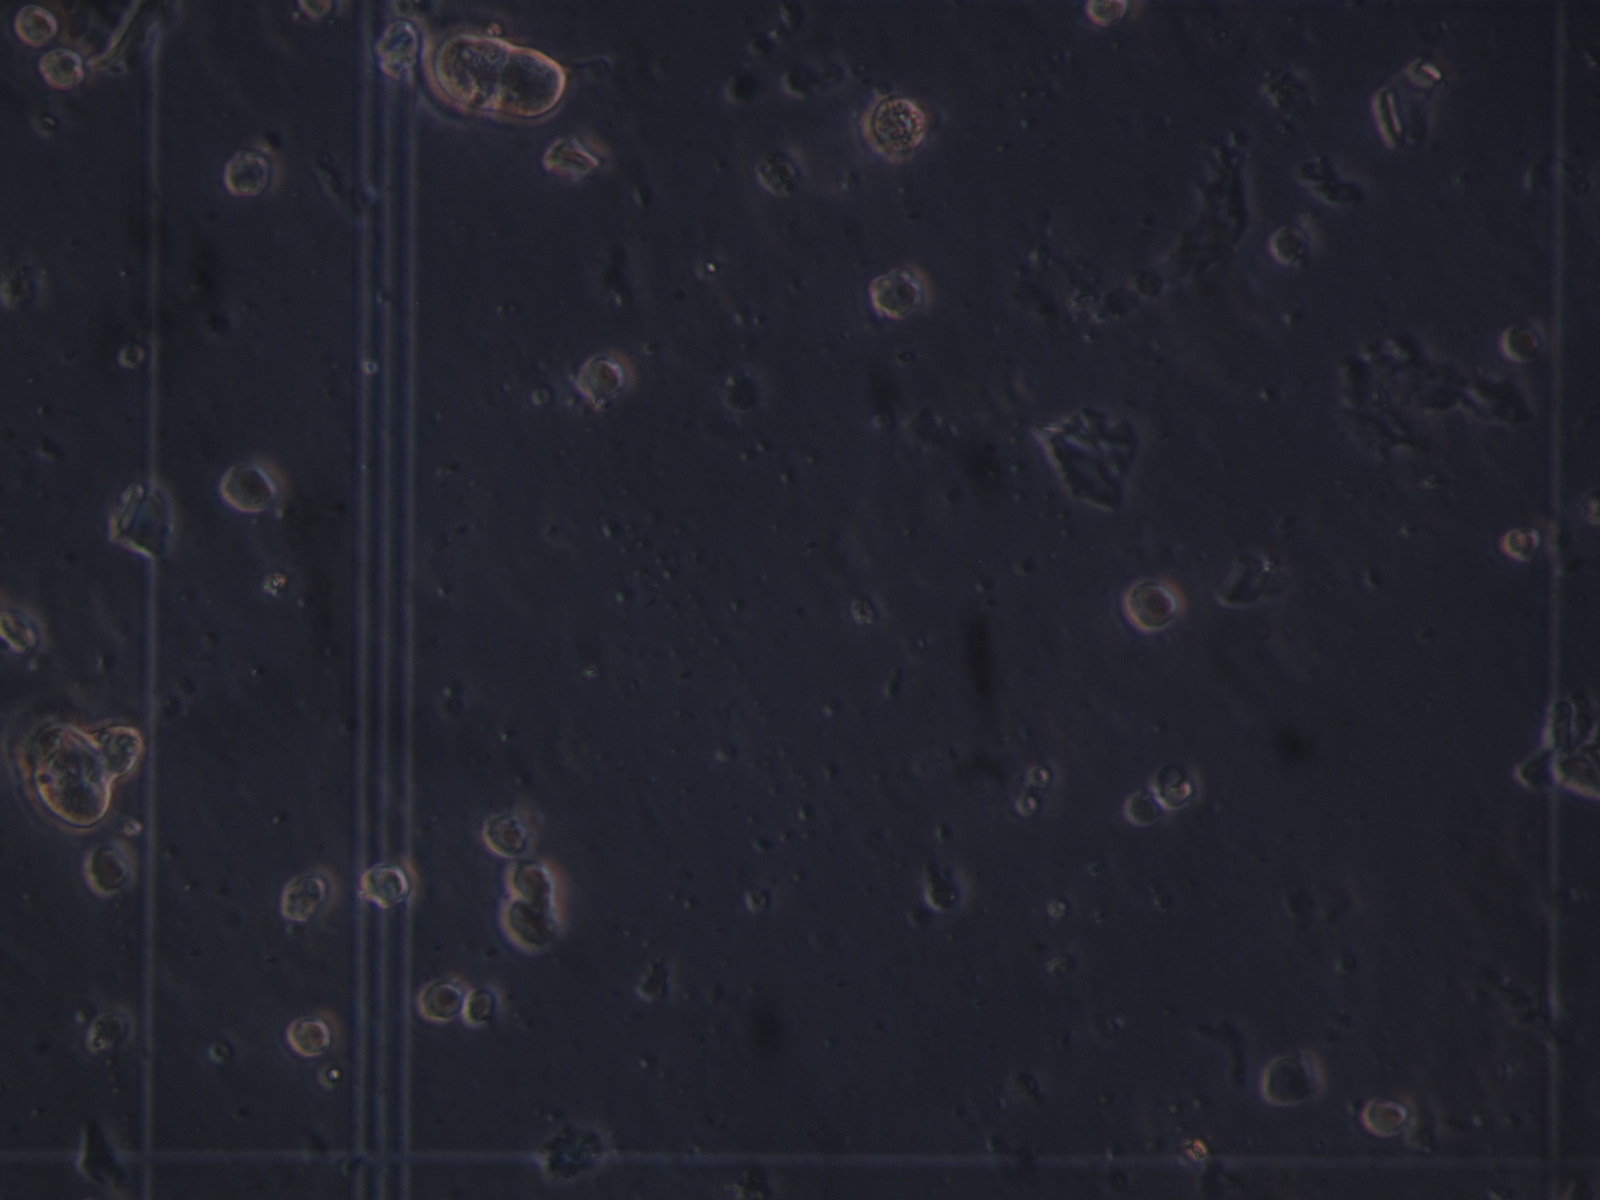hemo: (33, 725, 116, 828), (862, 89, 926, 163), (220, 458, 289, 517), (871, 258, 935, 319), (577, 347, 639, 408), (1123, 577, 1189, 634), (505, 856, 564, 918), (1262, 1049, 1327, 1105), (375, 16, 436, 76), (282, 866, 341, 923), (84, 836, 139, 897), (223, 144, 283, 198), (92, 716, 144, 779), (505, 897, 562, 954), (362, 855, 421, 909), (479, 812, 538, 861), (286, 1008, 341, 1058), (1151, 758, 1198, 811), (1361, 1095, 1412, 1139), (420, 976, 465, 1024), (1500, 318, 1545, 366), (38, 45, 84, 89), (14, 3, 59, 47), (464, 983, 508, 1029), (1267, 223, 1311, 267), (1083, 1, 1146, 32), (1120, 785, 1162, 827), (1502, 524, 1543, 565)
